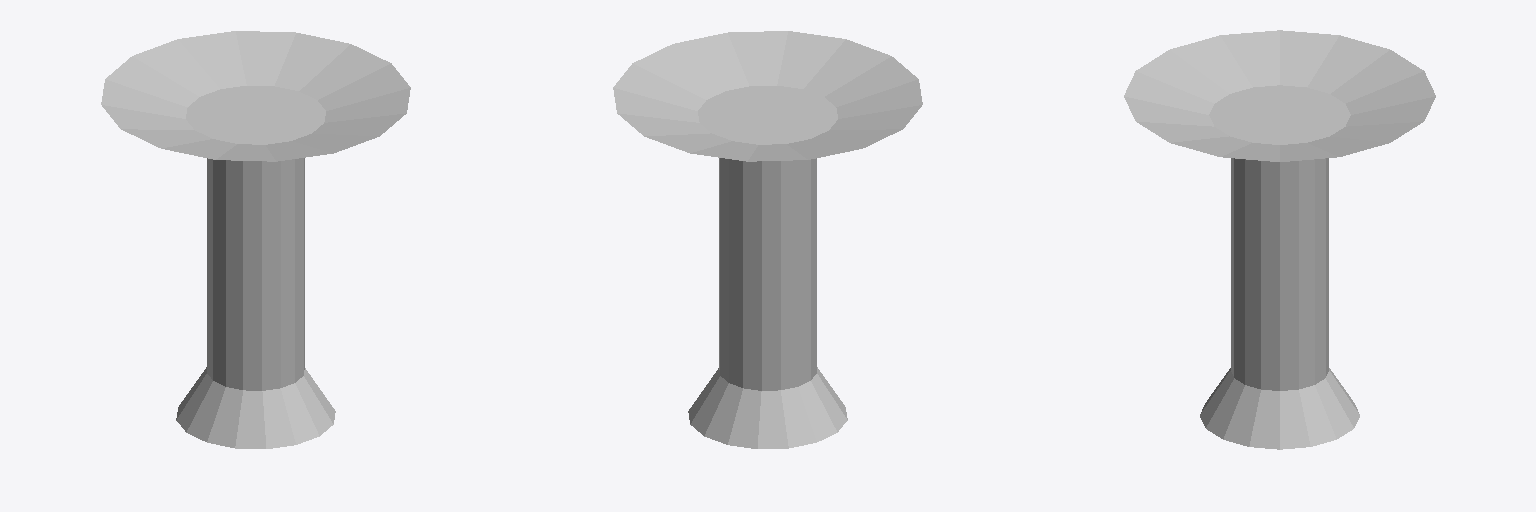
File: BrambleTreeProto.obj
3 renders of one model, left to right at view 1: azimuth 30°, elevation 25°; view 2: azimuth 150°, elevation 25°; view 3: azimuth 270°, elevation 25°, orthographic.
Visible parts, largest first — view 1: BrambleTreeProto; view 2: BrambleTreeProto; view 3: BrambleTreeProto.
Boxes of the visible parts, <box> form: BrambleTreeProto: <box>101,31,410,448</box>; BrambleTreeProto: <box>613,31,922,448</box>; BrambleTreeProto: <box>1124,30,1435,449</box>.
Bounding box in the file's own units: 9.99 × 11.27 × 9.99.